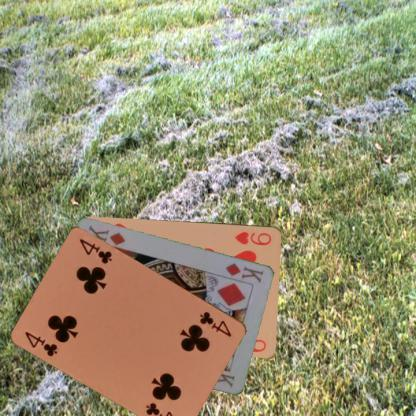4c: (22, 328, 60, 358), (197, 308, 233, 338)
9h: (232, 228, 273, 247)
Kd: (223, 260, 265, 284)
